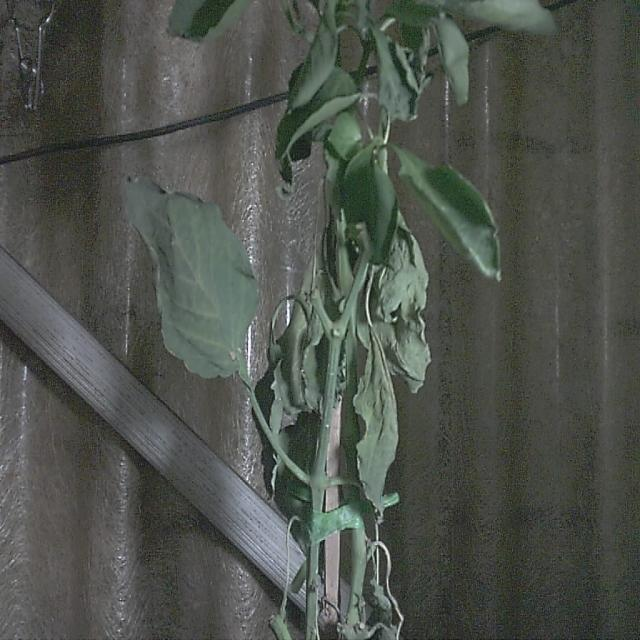Leaf: (118, 173, 261, 380), (397, 146, 503, 281), (353, 332, 399, 516), (342, 145, 398, 267)
